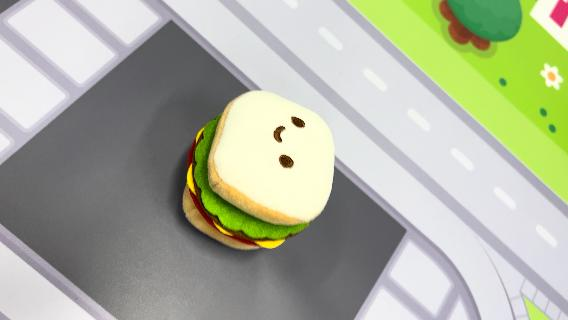sandwich: (180, 88, 338, 252)
